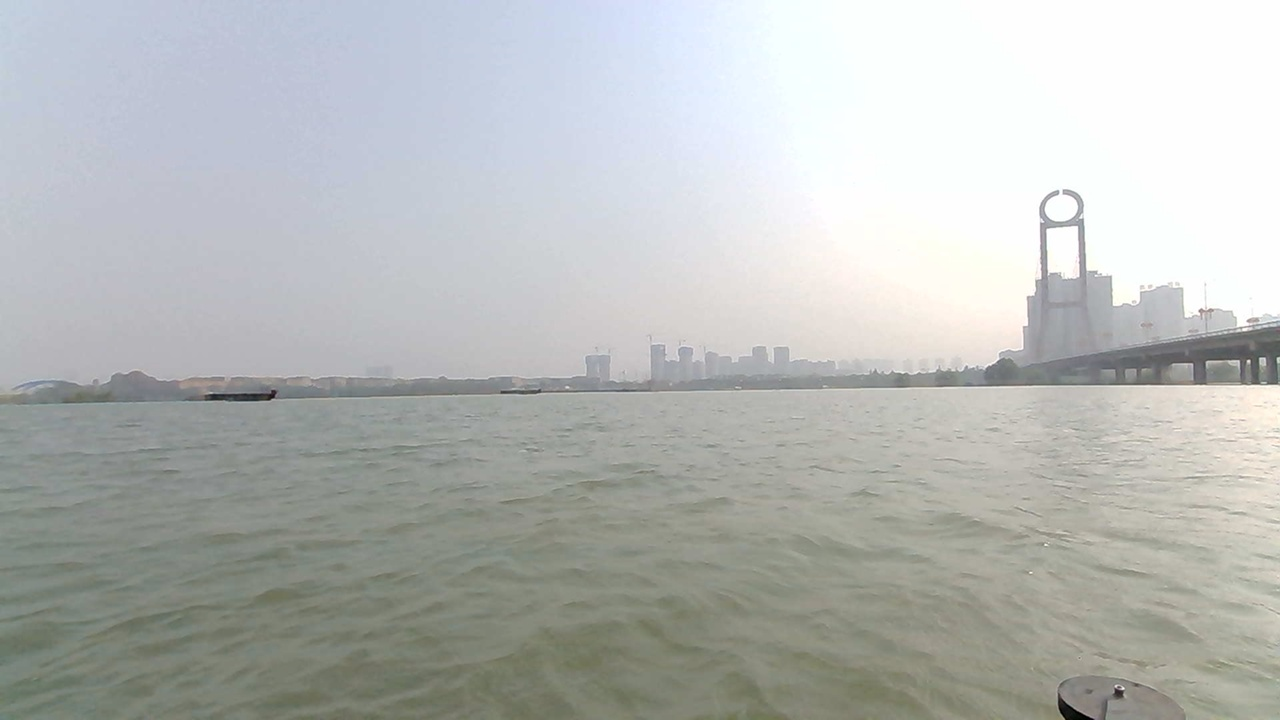bottle: (509, 437, 554, 456)
